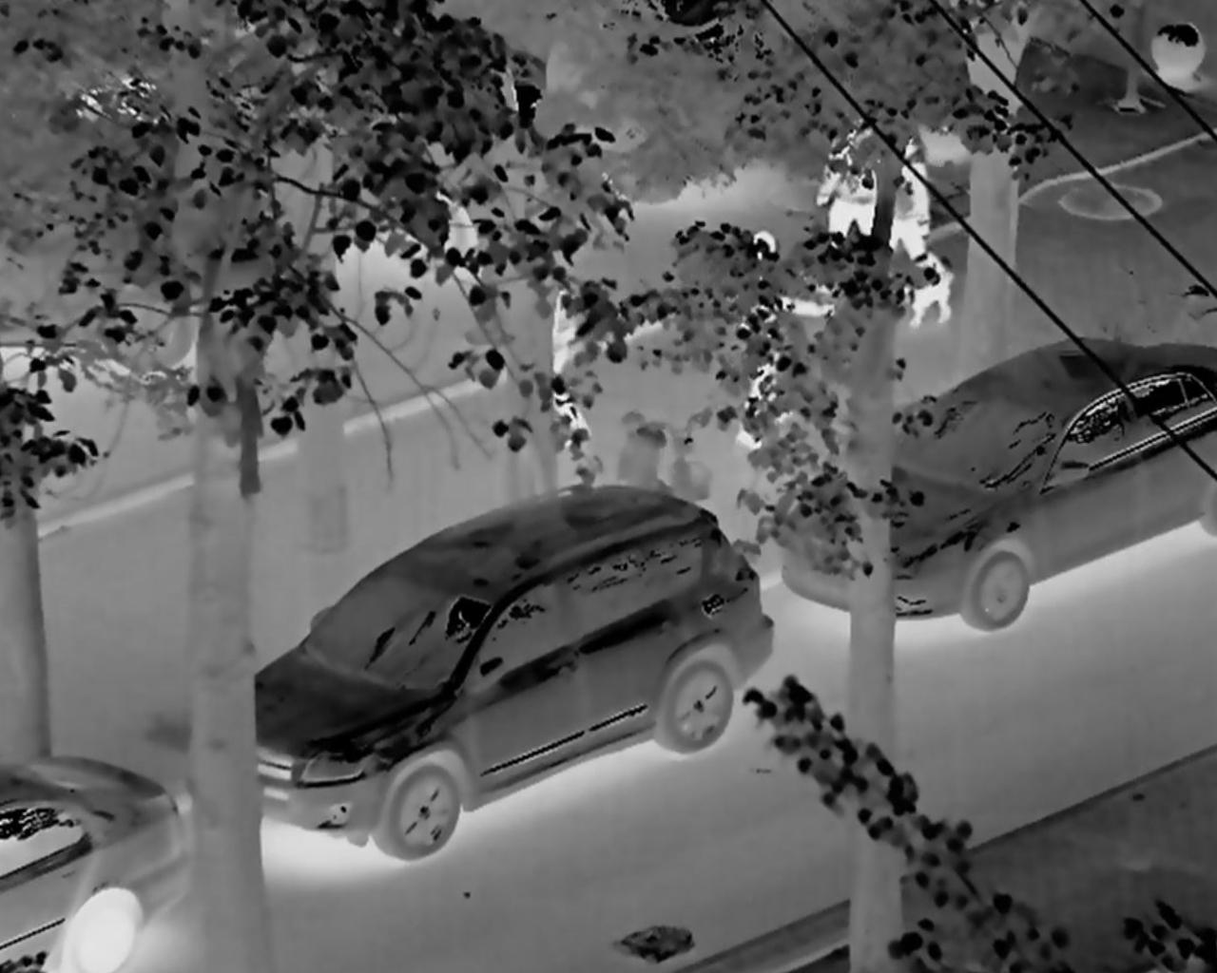person: (720, 213, 834, 438), (822, 93, 900, 277), (531, 268, 608, 448), (893, 117, 936, 274)
